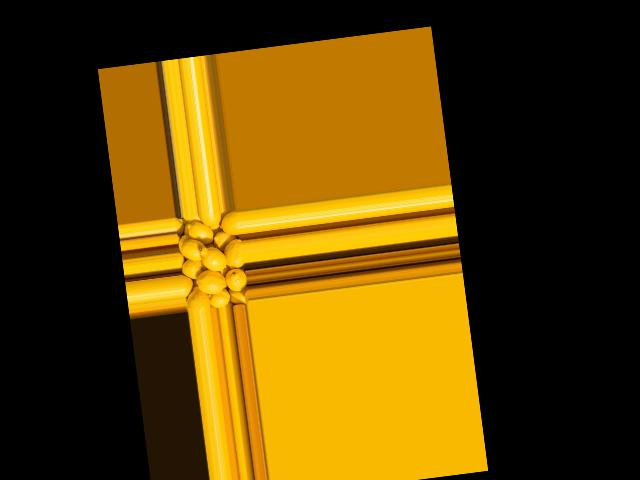lemon: (178, 235, 205, 261)
